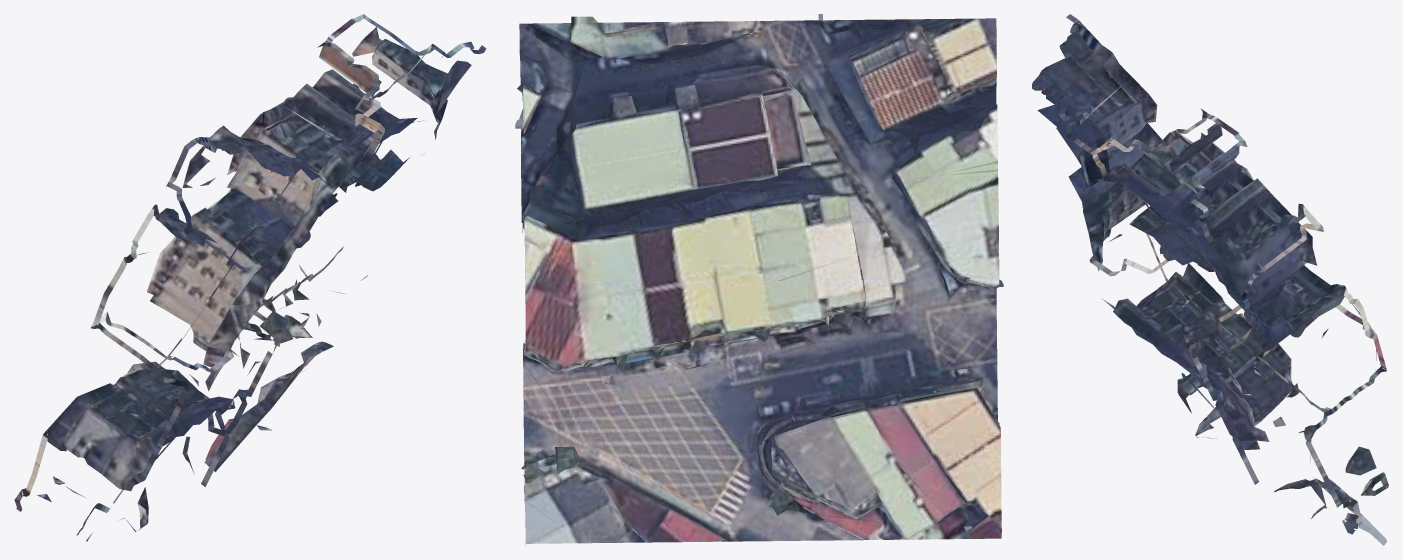
The picture shows the model from 3 angles, left to right: view 1: azimuth 30°, elevation 25°; view 2: azimuth 150°, elevation 25°; view 3: azimuth 270°, elevation 25°; orthographic projection. The views are drawn at different scales.
Size of the model in its own units: 83.73 by 77.08 by 59.76.
Materials: 1 (1 with a texture image).
